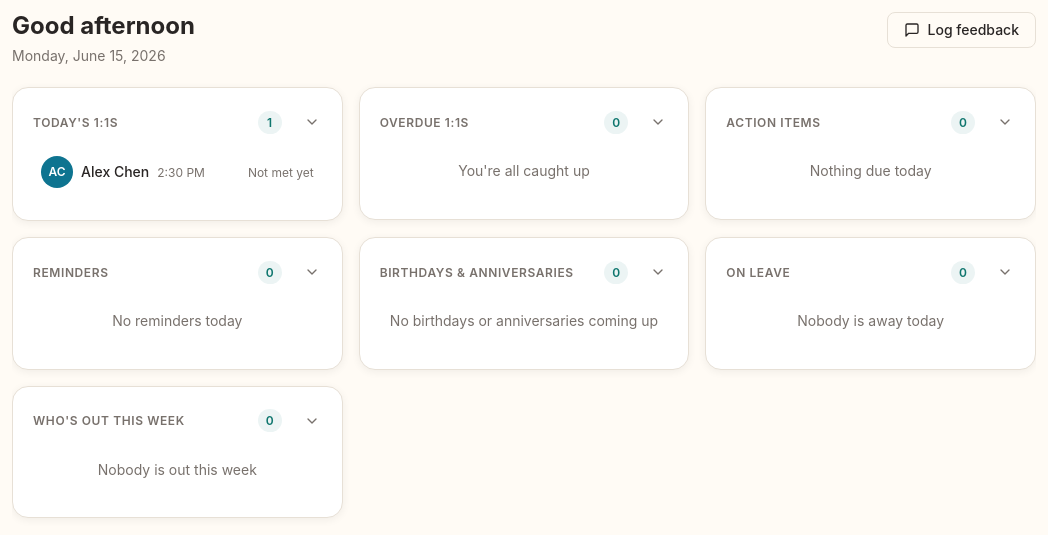
Dashboard › collapsing › folds a section away and remembers it in local storage by id only
This screenshot has width=1048, height=535.
Click the button named "Toggle Today's 1:1s": click(312, 122) [290,100,334,144]
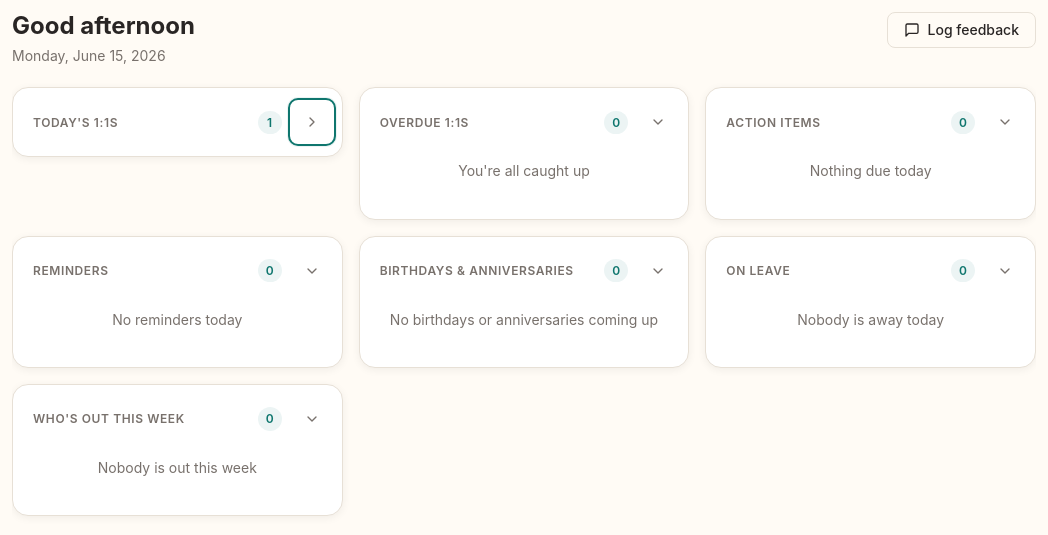
Result: the button named "Toggle Today's 1:1s" is collapsed at [290,100,334,144]
Result: the link "Alex Chen" is gone
